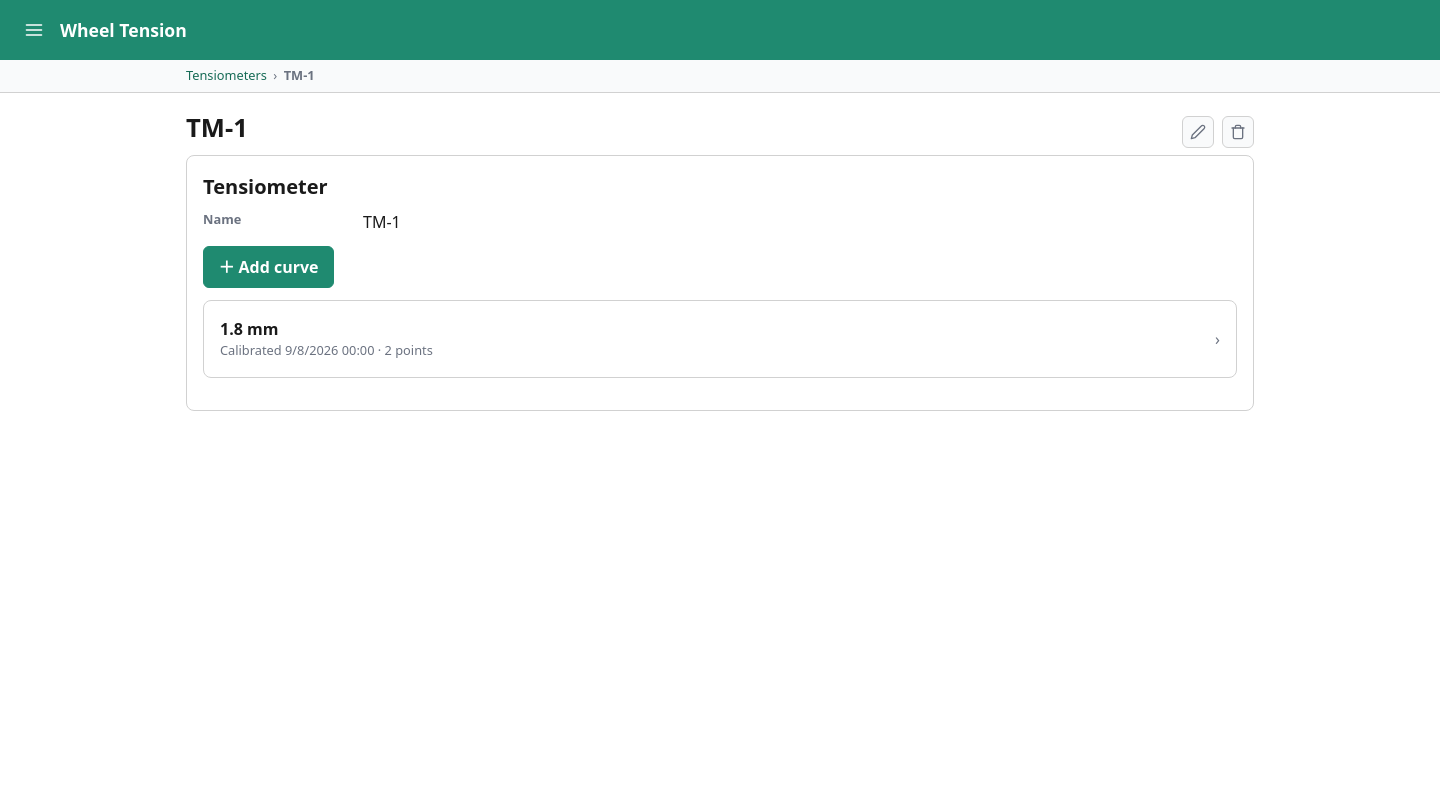
Scenario: TensiometerDetailPage › navigates to the curve page when a curve is clicked
The image size is (1440, 810).
Click the text "1.8 mm": coordinates (249, 329) [220, 318, 278, 340]
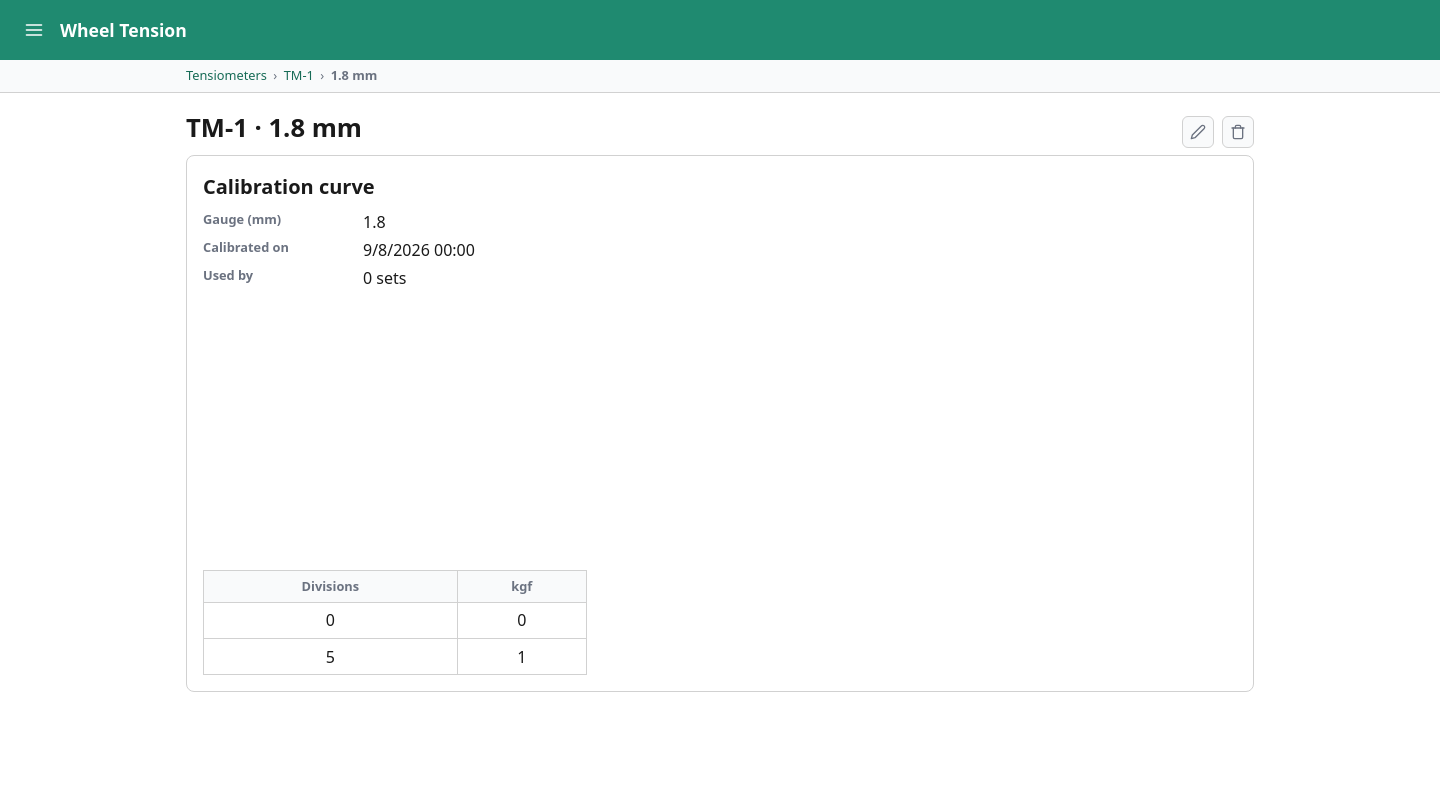
Expected: the button named "Edit curve" is shown, [1182, 116, 1214, 148]
Expected: the heading "Calibration curve" is shown, [203, 172, 375, 202]
